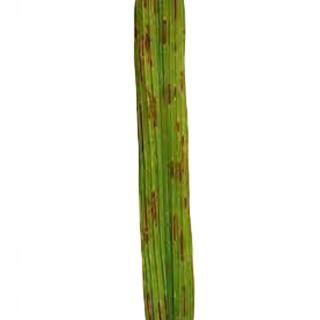bercak-Cokelat: (166, 116, 190, 186), (166, 208, 187, 269), (144, 81, 162, 132), (144, 286, 170, 320), (141, 22, 156, 74), (146, 186, 159, 232), (176, 69, 189, 98)
